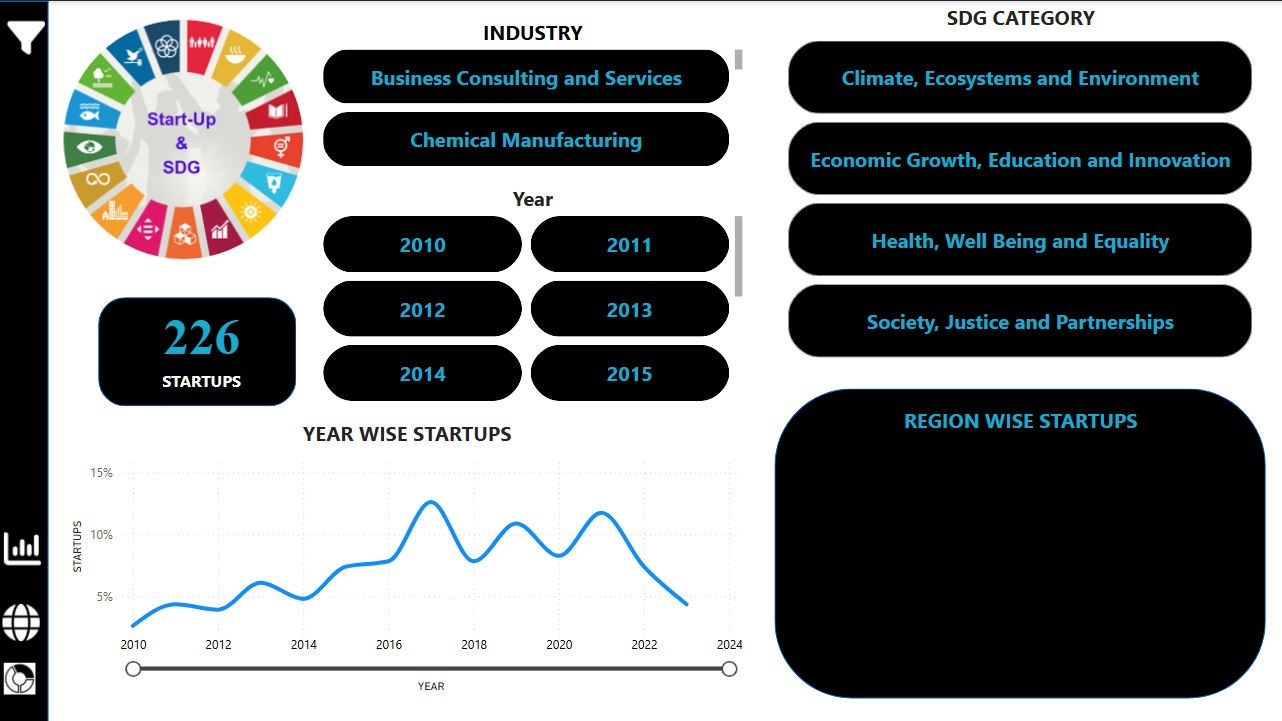

This screenshot's page, from the dashboard's own definition file:
{"tool":"powerbi","page":{"name":"SDG dashboard ","canvas":[1280,720],"ordinal":0},"visuals":[{"type":"shape","box":[100.2,295.2,197.1,108.6],"z":0,"group":"g1"},{"type":"image","box":[51.4,14.3,268.6,248.6],"z":0},{"type":"cardVisual","fields":{"Data":["Count(Sheet1.Name)"]},"box":[109.6,291.6,186.6,113.9],"z":1000,"group":"g1"},{"type":"shape","box":[767.1,384.2,489.9,308.7],"z":1000},{"type":"group","id":"g1","title":"Startups","box":[100.2,291.6,197.1,113.9],"z":3000},{"type":"advancedSlicerVisual","fields":{"Values":["Sheet1.Industry"]},"box":[320,14.3,427.1,157.1],"z":4000},{"type":"advancedSlicerVisual","title":"SDG CATEGORY","fields":{"Values":["Sheet1.SDG Category (Industry)"]},"box":[782.9,2.9,472.9,358.6],"z":5000},{"type":"advancedSlicerVisual","fields":{"Values":["Sheet1.Year"]},"box":[320,182.9,427.1,221.4],"z":6000},{"type":"lineChart","title":"  YEAR WISE STARTUPS","fields":{"Category":["Sheet1.Year"],"Y":["CountNonNull(Sheet1.Name)"]},"box":[70,417.1,677.1,275.7],"z":7000},{"type":"RadarChart1446119667547","title":"REGION WISE STARTUPS","fields":{"Category":["Sheet1.Region"],"Y":["Count(Sheet1.Name)"]},"box":[783.5,403.4,437.7,271.7],"z":10000},{"type":"actionButton","box":[12.9,28.6,57.1,32.9],"z":11001},{"type":"shape","box":[1.4,0,50,720],"z":11002},{"type":"actionButton","box":[2.7,522.8,81,45.3],"z":11003},{"type":"actionButton","box":[1.4,595.5,81,45.3],"z":11004},{"type":"actionButton","box":[2.9,654.3,85.7,40],"z":11005},{"type":"actionButton","box":[5.7,14.3,70,45.7],"z":11006}]}

Visuals, with their boxes on the page's 1280x720 design canvas (x1, y1, x2, y2). These are canvas units, not pixel positions in the 1282x721 screenshot, which may show the page scaled, cropped or inside an application window:
shape: 100/295/297/404
image: 51/14/320/263
cardVisual - Count(Sheet1.Name): 110/292/296/406
shape: 767/384/1257/693
"Startups" group: 100/292/297/406
advancedSlicerVisual - Sheet1.Industry: 320/14/747/171
"SDG CATEGORY" advancedSlicerVisual: 783/3/1256/362
advancedSlicerVisual - Sheet1.Year: 320/183/747/404
"  YEAR WISE STARTUPS" lineChart: 70/417/747/693
"REGION WISE STARTUPS" RadarChart1446119667547: 784/403/1221/675
actionButton: 13/29/70/62
shape: 1/0/51/720
actionButton: 3/523/84/568
actionButton: 1/596/82/641
actionButton: 3/654/89/694
actionButton: 6/14/76/60
